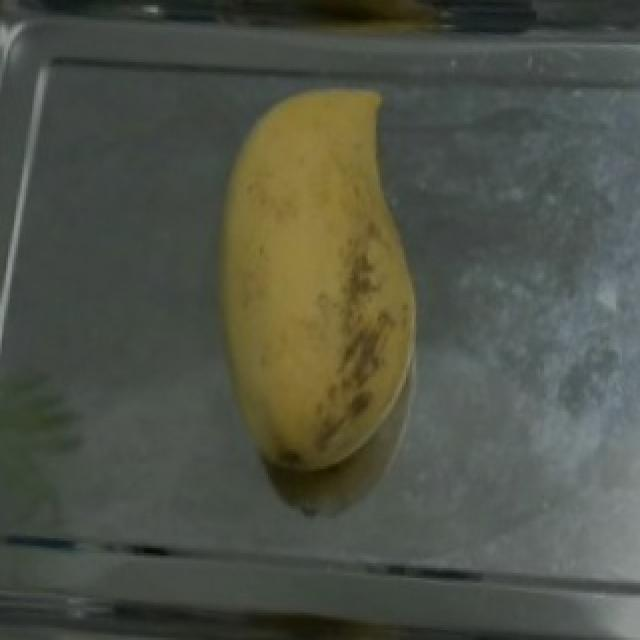fruit: (188, 72, 440, 446)
